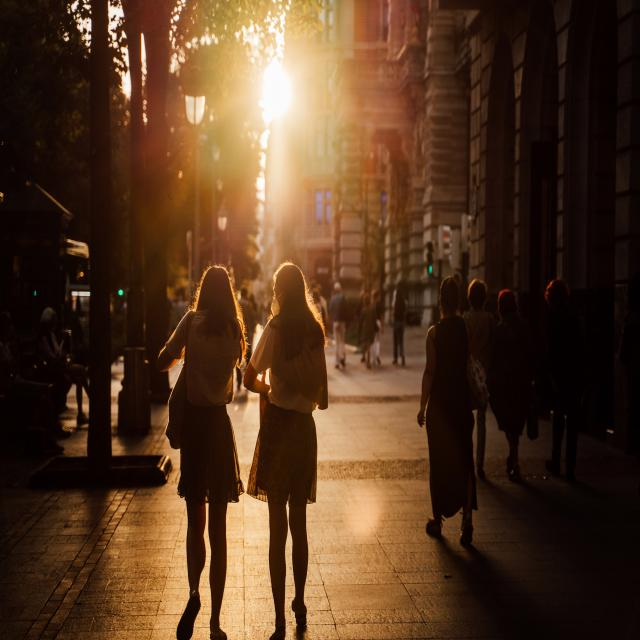adult: (241, 263, 329, 640), (158, 267, 240, 640), (418, 275, 475, 544), (541, 274, 586, 471), (486, 288, 530, 476), (460, 277, 492, 475), (39, 306, 89, 426), (329, 282, 350, 368), (361, 294, 378, 370), (370, 291, 384, 367), (392, 290, 406, 364)
